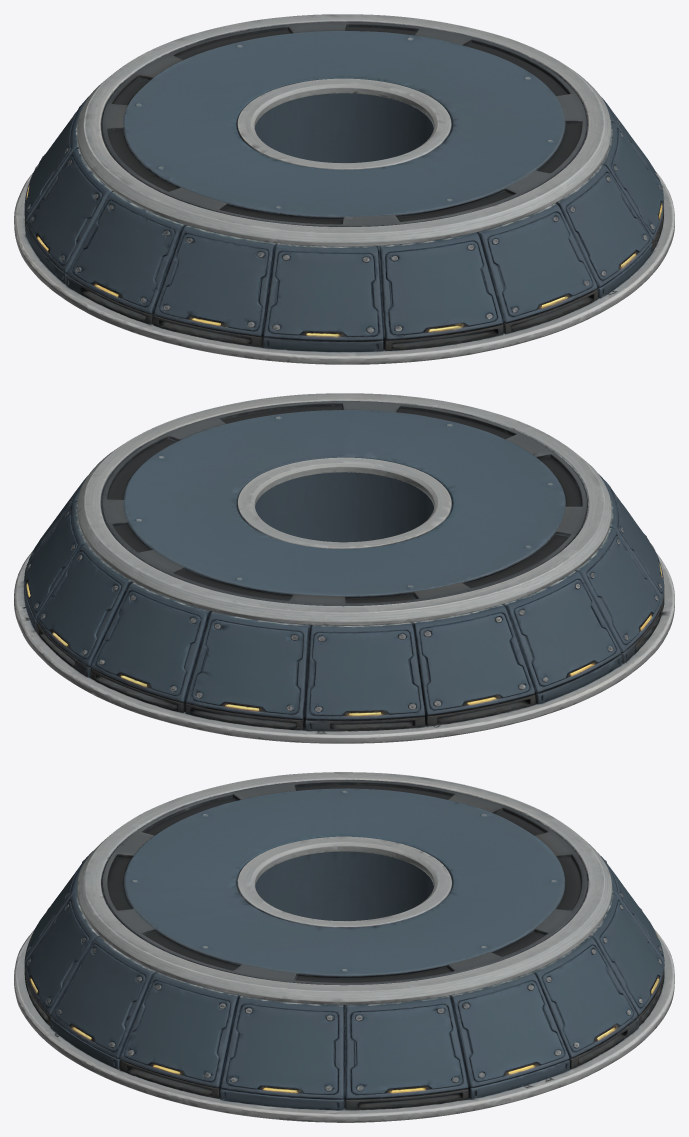
Rendered from archive_core_base_pbr4k.glb.
The picture shows the model from 3 angles, top to bottom: view 1: azimuth 30°, elevation 25°; view 2: azimuth 150°, elevation 25°; view 3: azimuth 270°, elevation 25°; orthographic projection.
Parts seen in each view (by area): view 1: ArchiveCoreFullDetailMeasured; view 2: ArchiveCoreFullDetailMeasured; view 3: ArchiveCoreFullDetailMeasured.
Boxes of the visible parts, bbox=[...] form: ArchiveCoreFullDetailMeasured: bbox=[14, 14, 674, 364]; ArchiveCoreFullDetailMeasured: bbox=[14, 393, 674, 743]; ArchiveCoreFullDetailMeasured: bbox=[14, 772, 674, 1122].
Size of the model in its own units: 5.59 by 1 by 5.59.
Materials: 1 (1 with a texture image).
